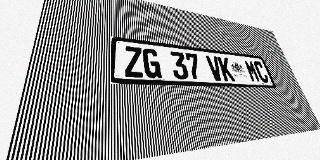3: (170, 51, 189, 80)
7: (184, 53, 203, 80)
C: (253, 61, 270, 83)
G: (142, 48, 162, 78)
K: (217, 57, 235, 81)
M: (243, 60, 261, 82)
V: (205, 55, 224, 81)
Z: (124, 46, 144, 78)
